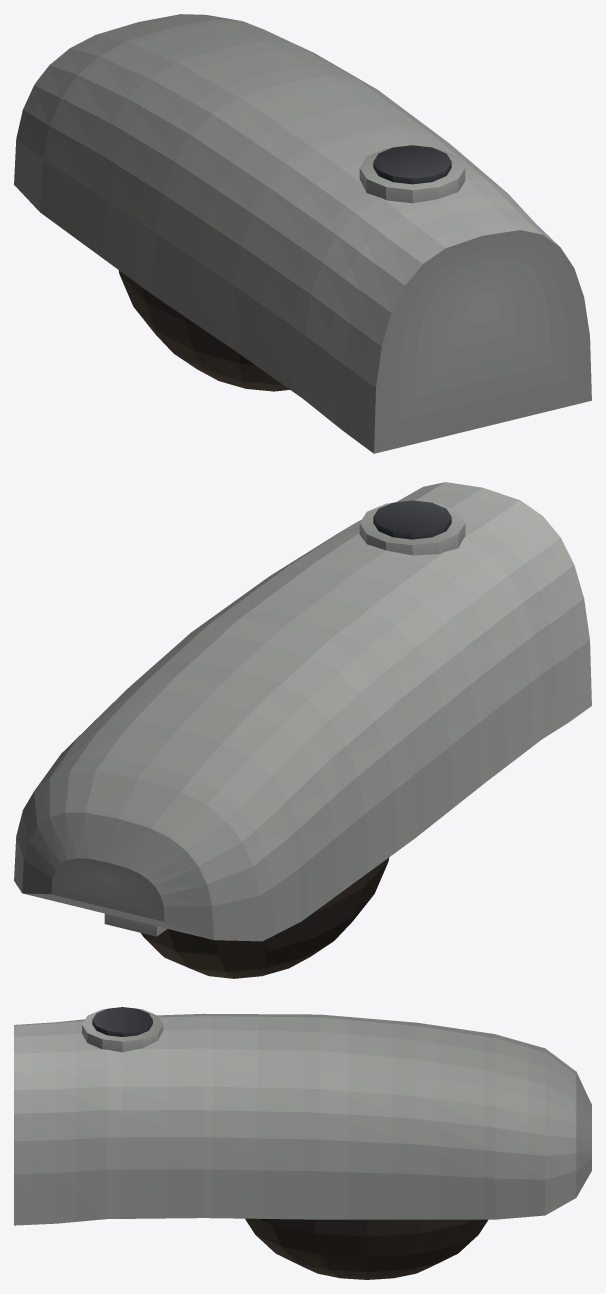
Rendered from streetlight_whov50np.obj.
3 renders of one model, top to bottom at view 1: azimuth 30°, elevation 25°; view 2: azimuth 150°, elevation 25°; view 3: azimuth 270°, elevation 25°, orthographic. The views are drawn at different scales.
Visible parts, largest first — view 1: fixture; view 2: fixture; view 3: fixture.
Part boxes in pixels (x1,y1,x2,y2): fixture: (14,14,591,453); fixture: (14,482,591,978); fixture: (14,1007,591,1279).
Bounding box in the file's own units: 0.375 × 0.4493 × 0.9312.
